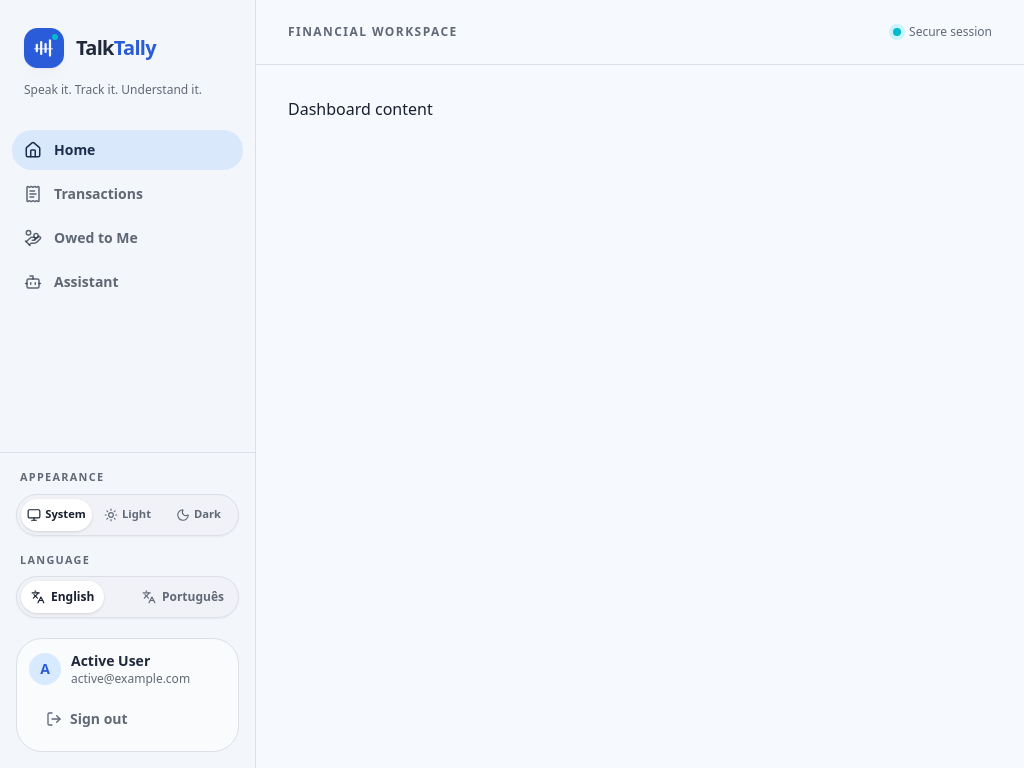
Test case: AppShell › switches the shell to Brazilian Portuguese and persists the locale
Click the button "Português": (183, 597) left=132, top=581, right=234, bottom=613
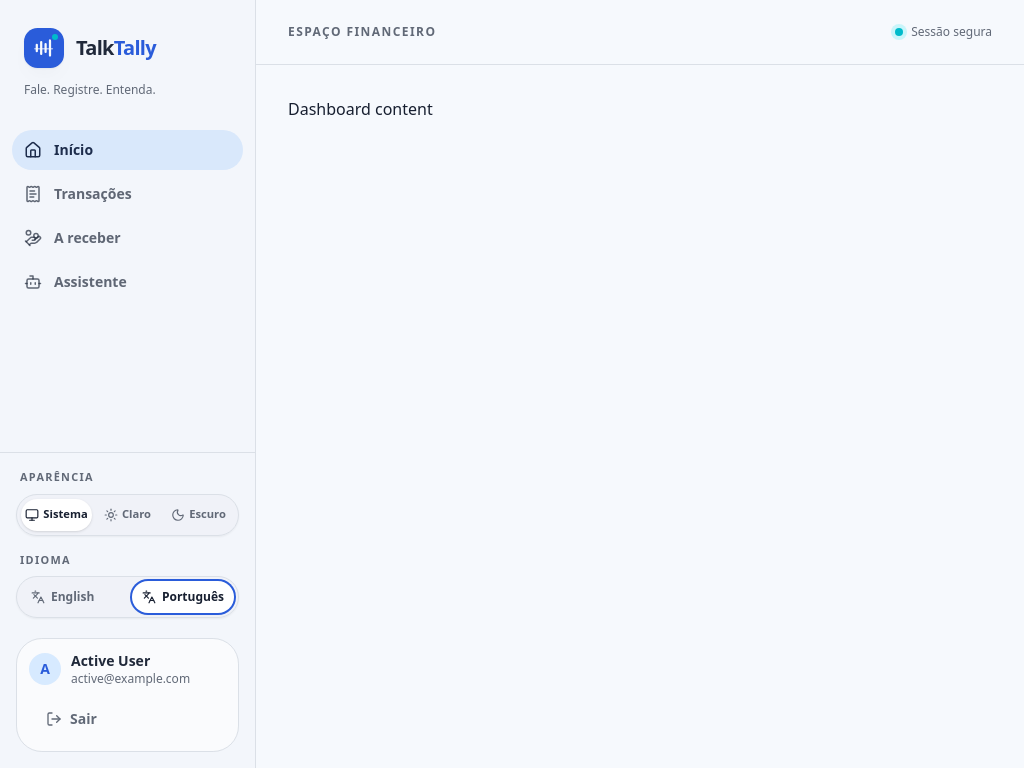
Expected: the link "Transações" is shown, left=24, top=184, right=132, bottom=203
Expected: the text "Aparência" is shown, left=20, top=469, right=94, bottom=484
Expected: the button "Sair" is shown, left=29, top=699, right=226, bottom=739
